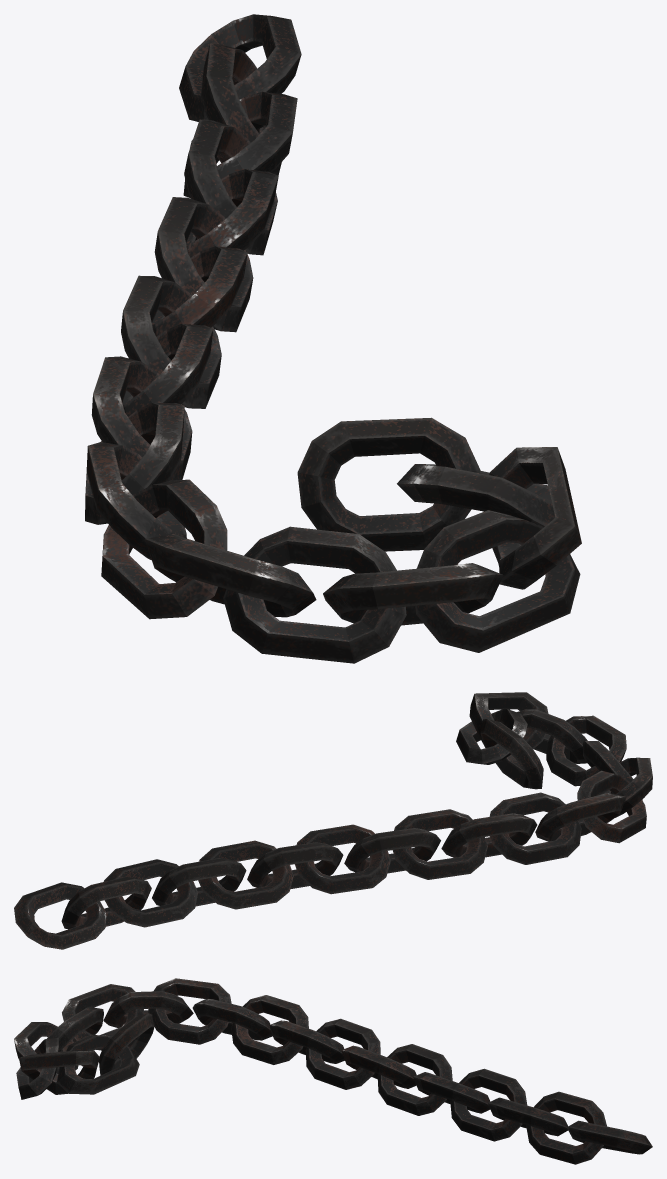
The model's file is Chain 2.fbx.
3 renders of one model, top to bottom at view 1: azimuth 30°, elevation 25°; view 2: azimuth 150°, elevation 25°; view 3: azimuth 270°, elevation 25°, orthographic. The views are drawn at different scales.
Parts seen in each view (by area): view 1: Chain 1; view 2: Chain 1; view 3: Chain 1.
Part boxes in pixels (bbox=[...]): Chain 1: bbox=[85, 14, 581, 663]; Chain 1: bbox=[14, 692, 652, 949]; Chain 1: bbox=[14, 978, 652, 1164].
Bounding box in the file's own units: 615 × 133 × 1065.
